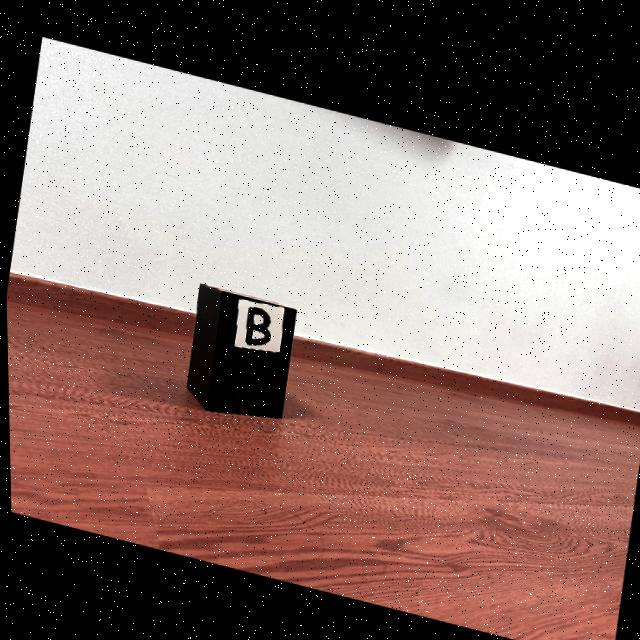B: (244, 302, 270, 342)
